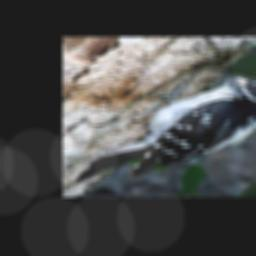Woodpecker: (70, 68, 256, 183)
